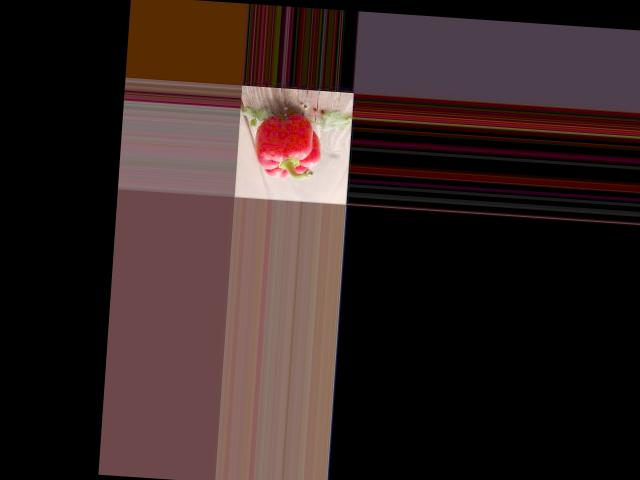bell_pepper: (248, 109, 326, 186)
